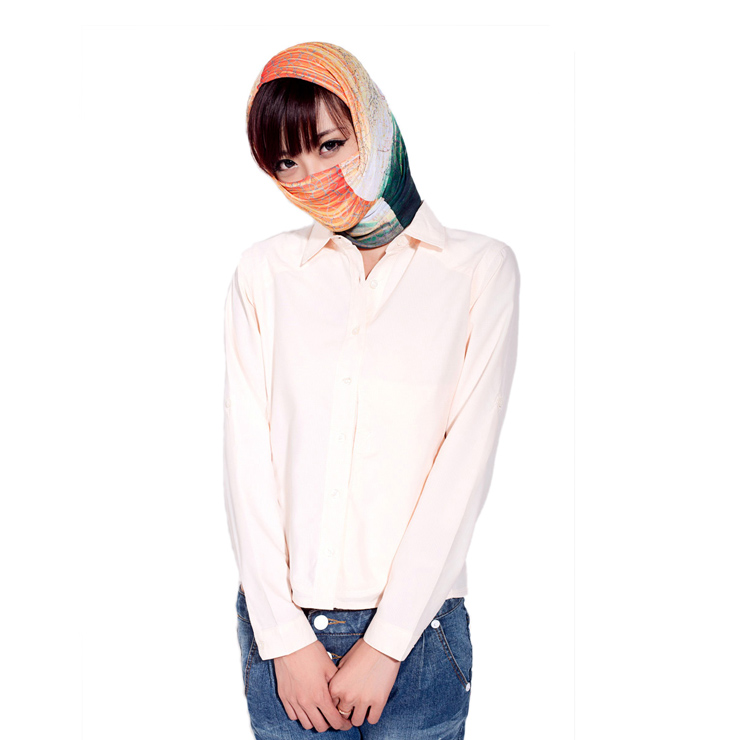face_mask: (266, 91, 368, 221)
